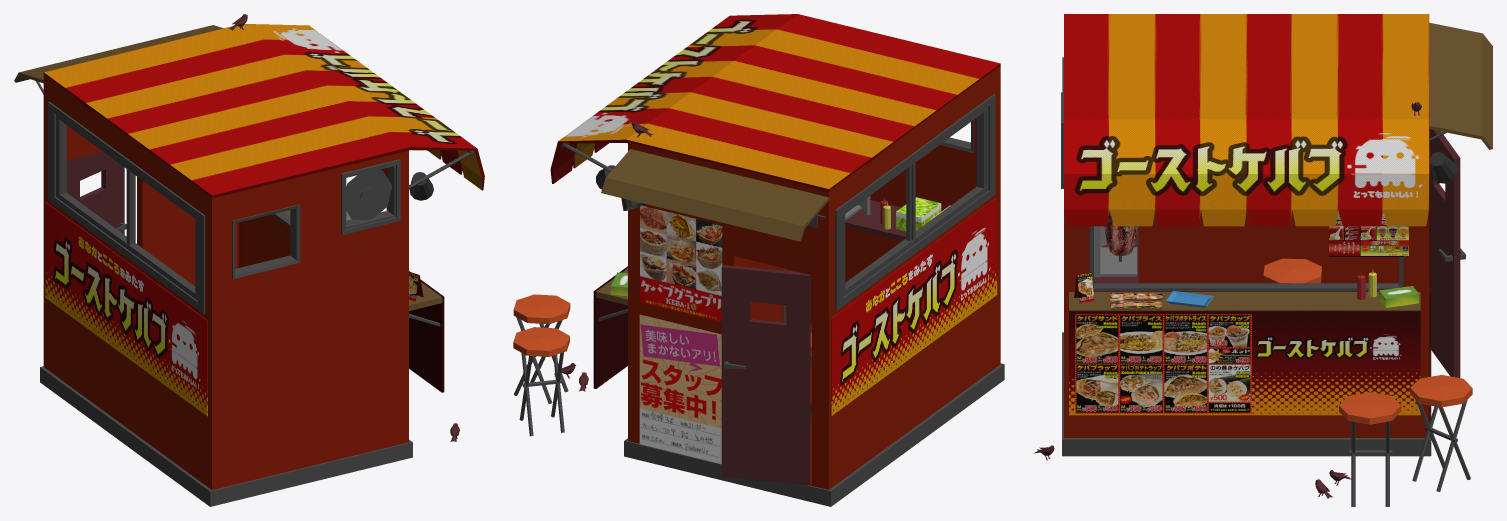
3 views of the same model, side by side, from view 1: azimuth 30°, elevation 25°; view 2: azimuth 150°, elevation 25°; view 3: azimuth 270°, elevation 25° (orthographic). The views are drawn at different scales.
Parts seen in each view (by area): view 1: hontai, yane, kanban, madowaku, yuka, doa_tsukue, kanban_large, yane2, kinzoku; view 2: yane, hontai, kanban, doa_tsukue, yane2, madowaku, yuka, isu, kanban_large, kinzoku, box; view 3: yane, kanban_large, hontai, yuka, yane2, doa_tsukue, table, kanban, isu, madowaku, kinzoku, dougu (+5 smaller).
Part boxes in pixels (left/top/right/bottom): hontai: left=43, top=74, right=408, bottom=489; yane: left=43, top=24, right=484, bottom=198; kanban: left=45, top=202, right=423, bottom=416; madowaku: left=48, top=101, right=400, bottom=313; yuka: left=40, top=366, right=412, bottom=506; doa_tsukue: left=66, top=152, right=124, bottom=234; kanban_large: left=409, top=271, right=444, bottom=392; yane2: left=14, top=25, right=223, bottom=83; kinzoku: left=35, top=81, right=473, bottom=326; yane: left=550, top=14, right=1000, bottom=192; hontai: left=628, top=66, right=1000, bottom=489; kanban: left=639, top=197, right=997, bottom=463; doa_tsukue: left=721, top=200, right=906, bottom=485; yane2: left=601, top=149, right=829, bottom=241; madowaku: left=835, top=94, right=995, bottom=310; yuka: left=624, top=363, right=1004, bottom=506; isu: left=513, top=294, right=811, bottom=356; kanban_large: left=593, top=266, right=627, bottom=388; kinzoku: left=514, top=143, right=825, bottom=436; box: left=610, top=197, right=950, bottom=296; yane: left=1064, top=14, right=1429, bottom=226; kanban_large: left=1069, top=310, right=1420, bottom=415; hontai: left=1064, top=210, right=1429, bottom=437; yuka: left=1062, top=332, right=1431, bottom=456; yane2: left=1429, top=22, right=1492, bottom=149; doa_tsukue: left=1094, top=129, right=1460, bottom=377; table: left=1069, top=292, right=1420, bottom=310; kanban: left=1074, top=134, right=1430, bottom=422; isu: left=1263, top=258, right=1472, bottom=424; madowaku: left=1061, top=57, right=1403, bottom=291; kinzoku: left=1119, top=132, right=1470, bottom=506; dougu: left=1094, top=226, right=1137, bottom=277.
Size of the model in its own units: 2.31 by 2.12 by 2.52.
Materials: 15 (6 with a texture image).
